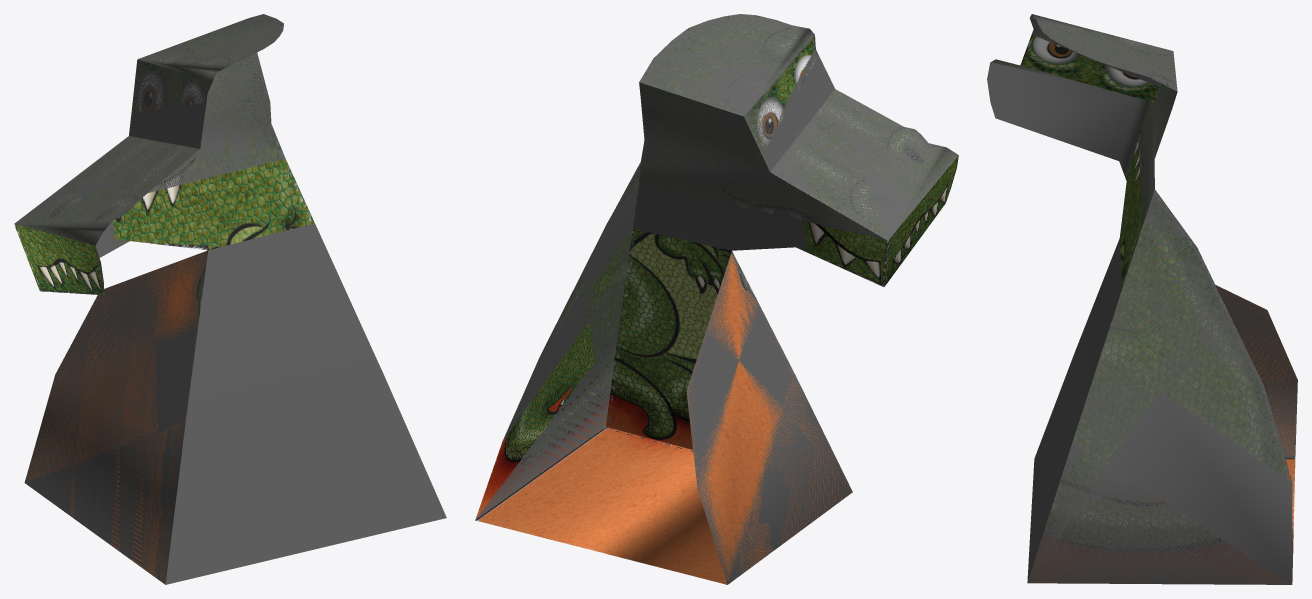
Rendered from dragon.fbx.
3 views of the same model, side by side, from view 1: azimuth 30°, elevation 25°; view 2: azimuth 150°, elevation 25°; view 3: azimuth 270°, elevation 25° (orthographic). The views are drawn at different scales.
Parts seen in each view (by area): view 1: Osy_1, Osy; view 2: Osy_1, Osy; view 3: Osy_1, Osy.
Boxes of the visible parts, bbox=[...] form: Osy_1: bbox=[14, 14, 446, 584]; Osy: bbox=[14, 15, 314, 583]; Osy_1: bbox=[475, 14, 958, 584]; Osy: bbox=[475, 15, 958, 584]; Osy_1: bbox=[987, 14, 1297, 584]; Osy: bbox=[987, 16, 1297, 584].
Bounding box in the file's own units: 91.85 × 119 × 70.56.
Materials: 2 (1 with a texture image).
